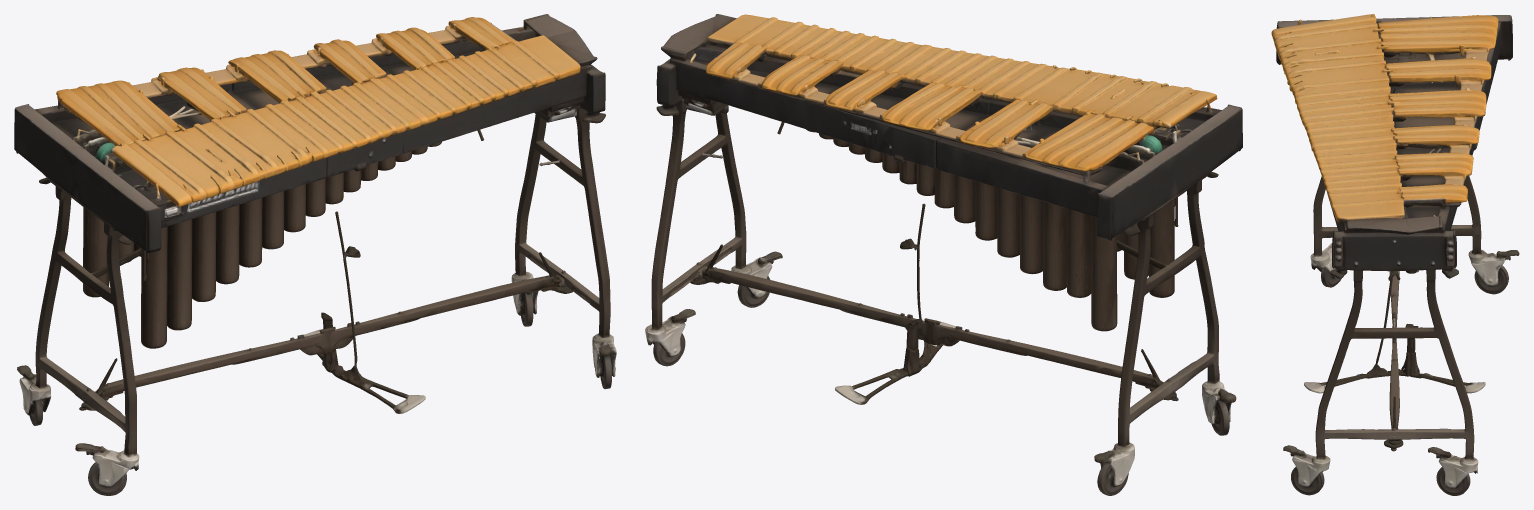
File: vibrafone.glb
3 renders of one model, left to right at view 1: azimuth 30°, elevation 25°; view 2: azimuth 150°, elevation 25°; view 3: azimuth 270°, elevation 25°, orthographic. The views are drawn at different scales.
Parts seen in each view (by area): view 1: tripo_node_e33a037b-df9e-4070-9feb-b0014b5a38e9; view 2: tripo_node_e33a037b-df9e-4070-9feb-b0014b5a38e9; view 3: tripo_node_e33a037b-df9e-4070-9feb-b0014b5a38e9.
Part boxes in pixels (x1,y1,x2,y2): tripo_node_e33a037b-df9e-4070-9feb-b0014b5a38e9: [14, 14, 616, 495]; tripo_node_e33a037b-df9e-4070-9feb-b0014b5a38e9: [645, 14, 1242, 495]; tripo_node_e33a037b-df9e-4070-9feb-b0014b5a38e9: [1271, 14, 1519, 495].
Bounding box in the file's own units: 0.9806 × 0.5747 × 0.4474.
1 material, 1 textured.
